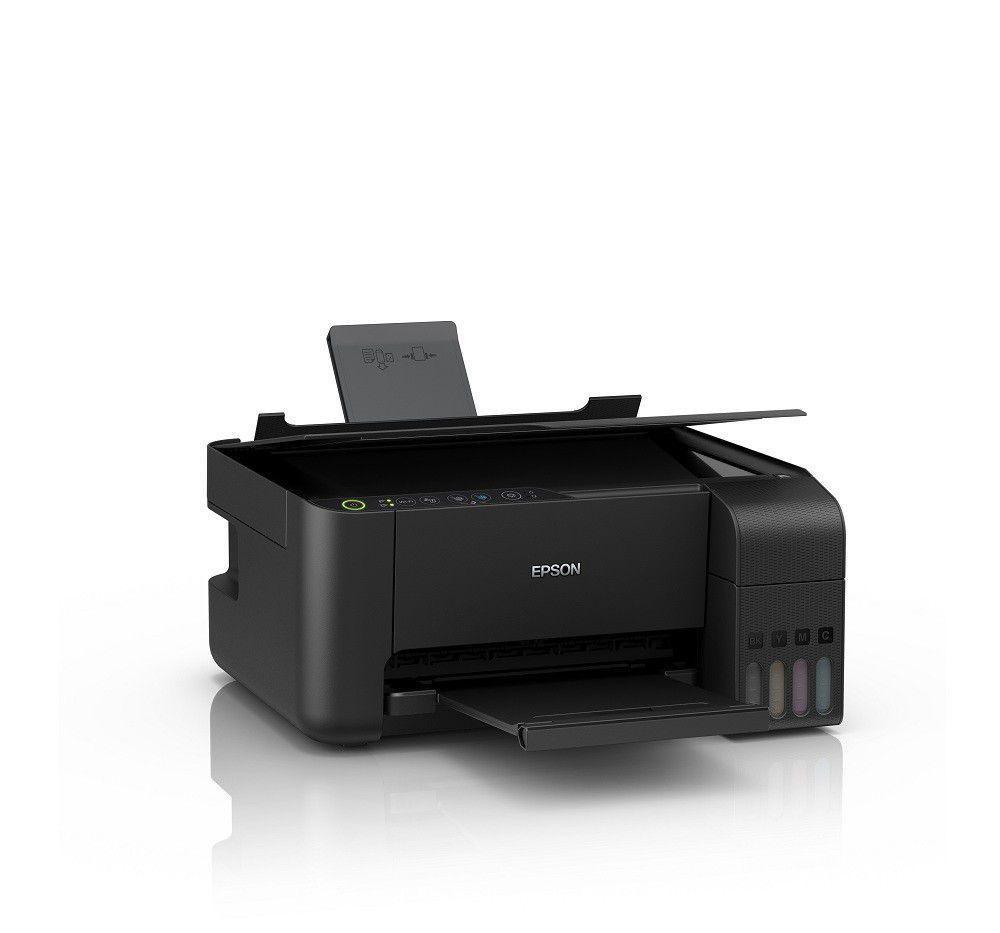Printer: (207, 319, 843, 750)
